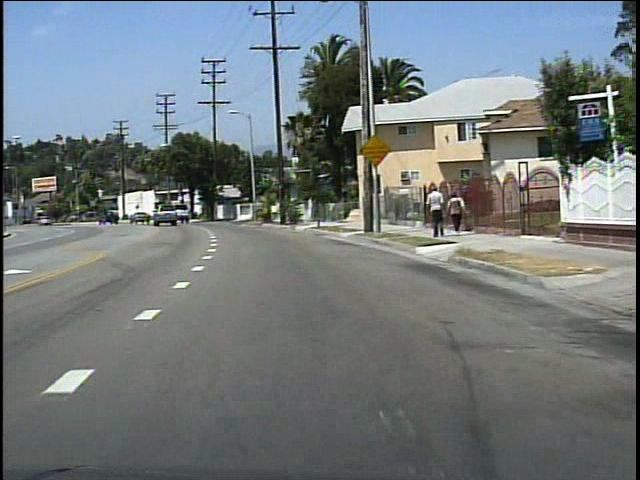person: (423, 183, 445, 241), (444, 189, 467, 237)
